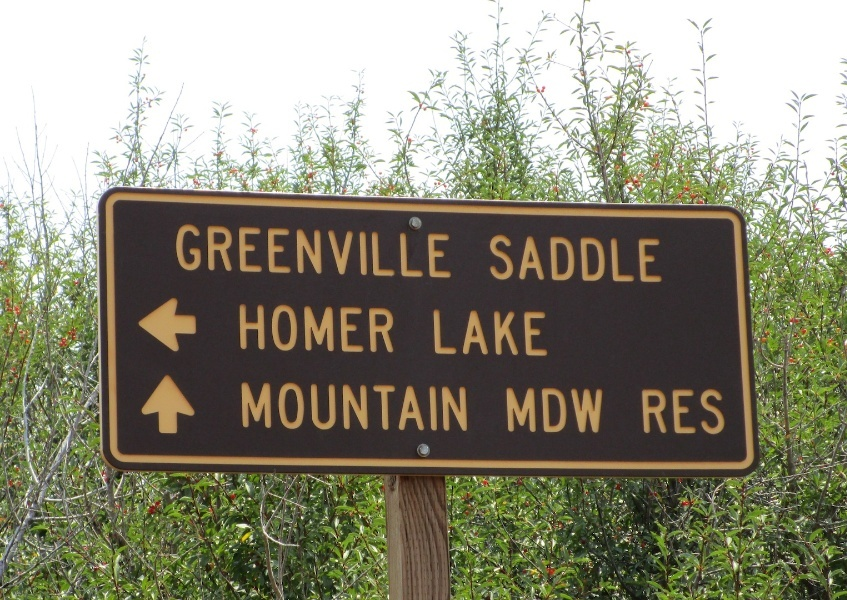text: (241, 378, 256, 436), (257, 378, 272, 436), (273, 378, 288, 436), (289, 378, 304, 436), (305, 378, 320, 436), (321, 378, 336, 436), (337, 378, 352, 436), (353, 378, 368, 436), (369, 378, 384, 436), (385, 378, 400, 436), (401, 378, 416, 436), (417, 378, 432, 436), (433, 378, 448, 436), (449, 378, 464, 436), (177, 222, 192, 279), (193, 222, 208, 279), (209, 222, 224, 279), (225, 222, 240, 279), (241, 222, 256, 279), (257, 222, 272, 279), (273, 222, 288, 279), (289, 222, 304, 279), (305, 222, 320, 279), (321, 222, 336, 279), (337, 222, 352, 279), (353, 222, 368, 279), (369, 222, 384, 279), (385, 222, 400, 279), (401, 222, 416, 279), (417, 222, 432, 279), (433, 222, 448, 279), (241, 301, 256, 356), (257, 301, 272, 356), (273, 301, 288, 356), (289, 301, 304, 356), (305, 301, 320, 356), (321, 301, 336, 356), (337, 301, 352, 356), (353, 301, 368, 356), (369, 301, 384, 356), (513, 384, 528, 436), (529, 384, 544, 436), (545, 384, 560, 436), (561, 384, 576, 436), (577, 384, 592, 436), (593, 384, 608, 436), (497, 233, 512, 284), (513, 233, 528, 284), (529, 233, 544, 284), (545, 233, 560, 284), (561, 233, 576, 284), (577, 233, 592, 284), (593, 233, 608, 284), (609, 233, 624, 284), (625, 233, 640, 284), (641, 233, 656, 284), (433, 308, 448, 358), (449, 308, 464, 358), (465, 308, 480, 358), (481, 308, 496, 358), (497, 308, 512, 358), (513, 308, 528, 358), (529, 308, 544, 358), (641, 386, 656, 436), (657, 386, 672, 436), (673, 386, 688, 436), (689, 386, 704, 436), (705, 386, 720, 436), (385, 301, 397, 356), (485, 233, 496, 284), (465, 378, 474, 436), (503, 384, 512, 436), (657, 233, 664, 284), (449, 222, 454, 279), (721, 386, 726, 436), (172, 222, 176, 279), (545, 308, 549, 358), (238, 301, 240, 356), (239, 378, 240, 436)
